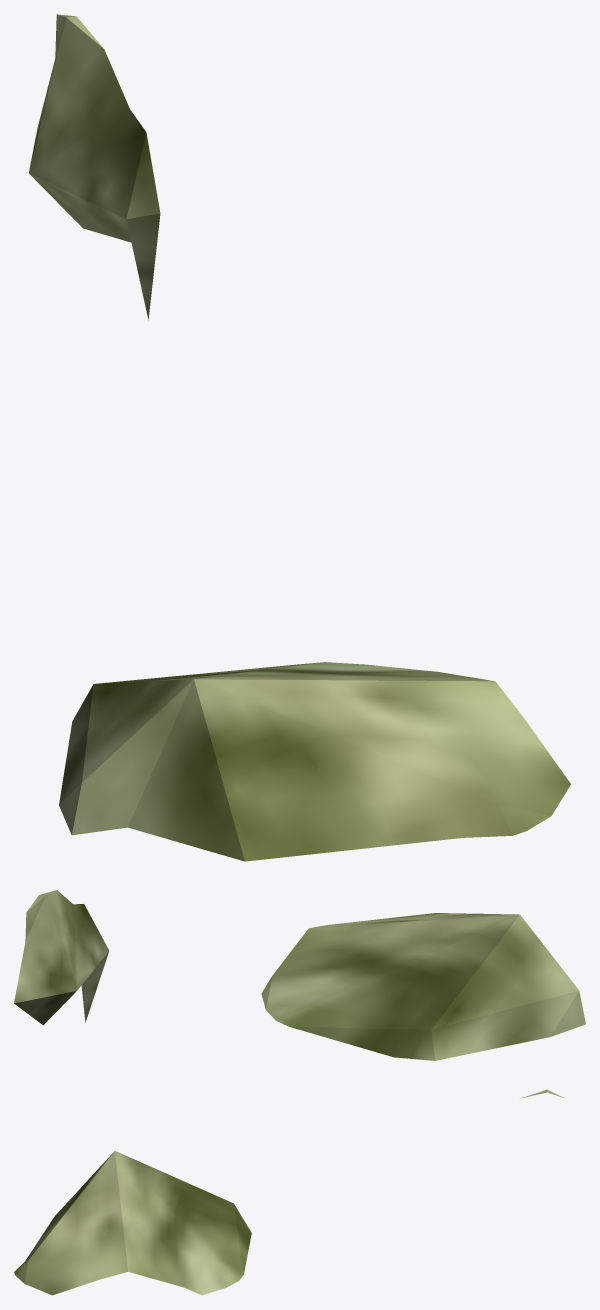
The picture shows the model from 3 angles, top to bottom: view 1: azimuth 30°, elevation 25°; view 2: azimuth 150°, elevation 25°; view 3: azimuth 270°, elevation 25°; orthographic projection. The views are drawn at different scales.
Bounding box in the file's own units: 0.3144 × 0.2864 × 0.7294.
Materials: 1 (1 with a texture image).
